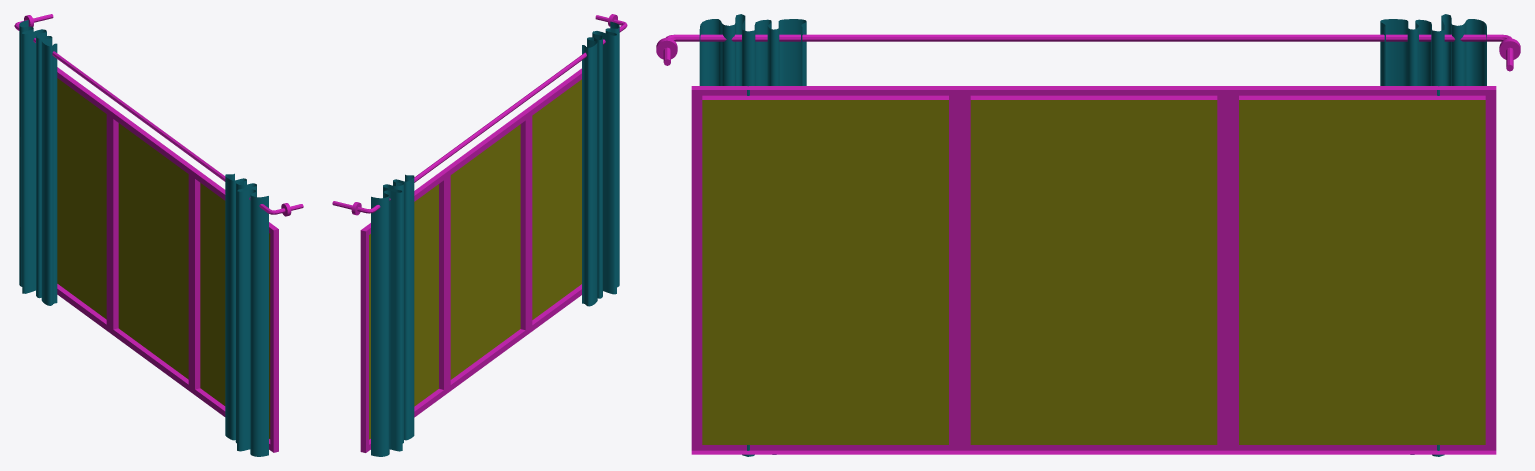
File: Sm_Rideau.fbx
3 views of the same model, side by side, from view 1: azimuth 30°, elevation 25°; view 2: azimuth 150°, elevation 25°; view 3: azimuth 270°, elevation 25° (orthographic). The views are drawn at different scales.
Visible parts, largest first — view 1: Sm_Fenetre, Sm_FenetreRideau_04, Sm_FenetreRideau_01, Sm_FenetreRideau_00, Sm_FenetreRideau_02; view 2: Sm_Fenetre, Sm_FenetreRideau_00, Sm_FenetreRideau_01, Sm_FenetreRideau_04, Sm_FenetreRideau_02; view 3: Sm_Fenetre, Sm_FenetreRideau_01, Sm_FenetreRideau_04, Sm_FenetreRideau_00, Sm_FenetreRideau_02.
Part boxes in pixels (left/top/right/bottom): Sm_Fenetre: left=57, top=78, right=270, bottom=438; Sm_FenetreRideau_04: left=225, top=173, right=268, bottom=456; Sm_FenetreRideau_01: left=57, top=67, right=278, bottom=452; Sm_FenetreRideau_00: left=19, top=20, right=57, bottom=305; Sm_FenetreRideau_02: left=14, top=14, right=303, bottom=214; Sm_Fenetre: left=369, top=79, right=581, bottom=439; Sm_FenetreRideau_00: left=371, top=174, right=414, bottom=456; Sm_FenetreRideau_01: left=360, top=68, right=581, bottom=452; Sm_FenetreRideau_04: left=582, top=21, right=619, bottom=306; Sm_FenetreRideau_02: left=332, top=15, right=627, bottom=213; Sm_Fenetre: left=702, top=100, right=1485, bottom=444; Sm_FenetreRideau_01: left=691, top=86, right=1496, bottom=454; Sm_FenetreRideau_04: left=699, top=14, right=806, bottom=456; Sm_FenetreRideau_00: left=1380, top=14, right=1486, bottom=456; Sm_FenetreRideau_02: left=663, top=34, right=1513, bottom=71.
Bounding box in the file's own units: 70.24 × 645 × 350.
